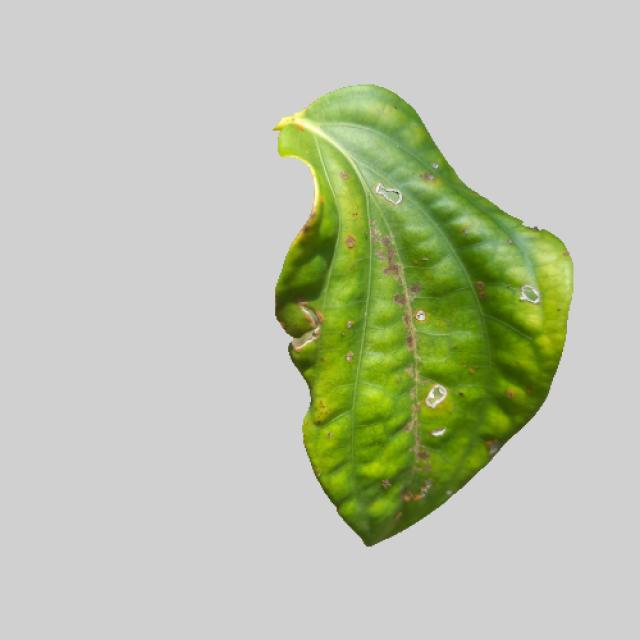yellow-mottle-virus: (248, 94, 582, 549)
